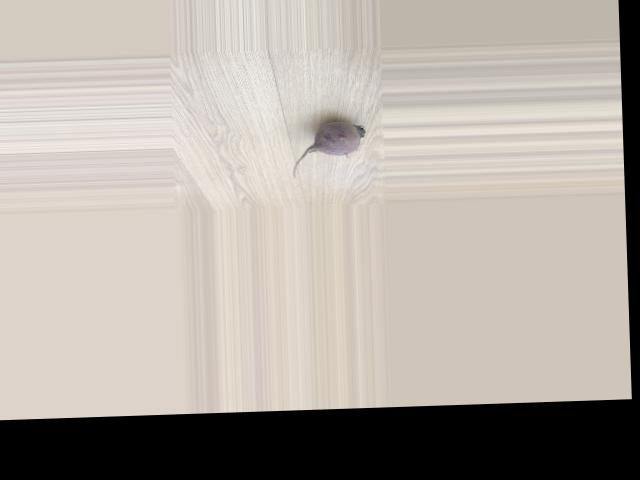beet: (289, 120, 365, 178)
